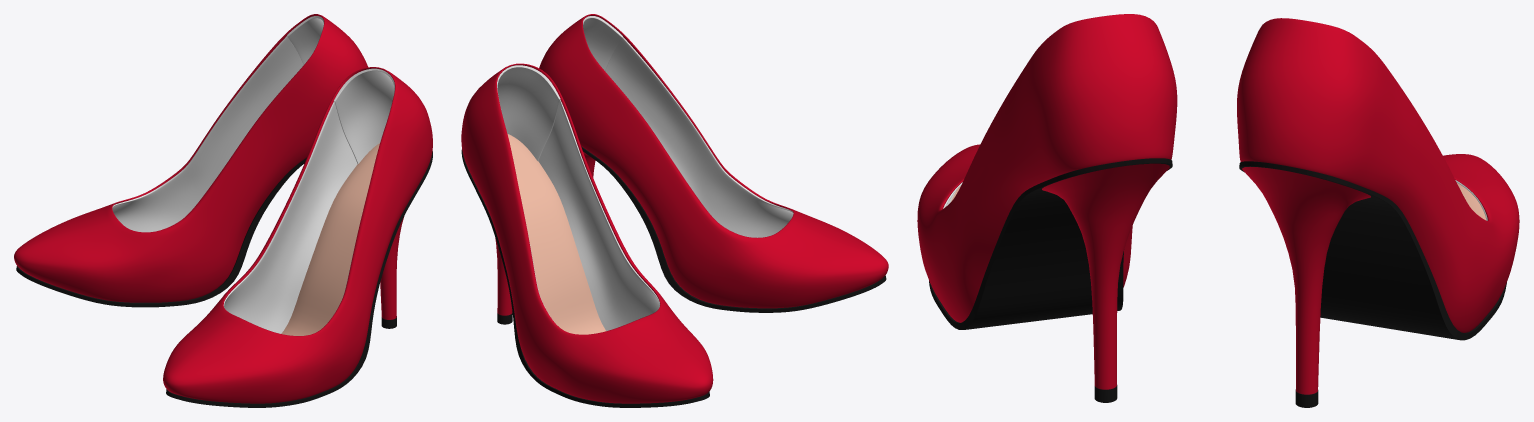
Rendered from heel.glb.
3 renders of one model, left to right at view 1: azimuth 30°, elevation 25°; view 2: azimuth 150°, elevation 25°; view 3: azimuth 270°, elevation 25°, orthographic. The views are drawn at different scales.
Parts seen in each view (by area): view 1: body, inner_side, inner_base, sole; view 2: body, inner_side, inner_base, sole; view 3: body, sole.
Part boxes in pixels (x1=…): body: x1=14, y1=14, x2=432, y2=403; inner_side: x1=112, y1=16, x2=394, y2=333; inner_base: x1=281, y1=143, x2=379, y2=335; sole: x1=16, y1=151, x2=432, y2=407; body: x1=461, y1=14, x2=888, y2=403; inner_side: x1=497, y1=16, x2=793, y2=330; inner_base: x1=507, y1=134, x2=606, y2=334; sole: x1=461, y1=146, x2=886, y2=407; body: x1=917, y1=14, x2=1519, y2=394; sole: x1=929, y1=158, x2=1506, y2=407.
Size of what is drawn, in the model's own units: 5.88 by 4.66 by 6.7.
